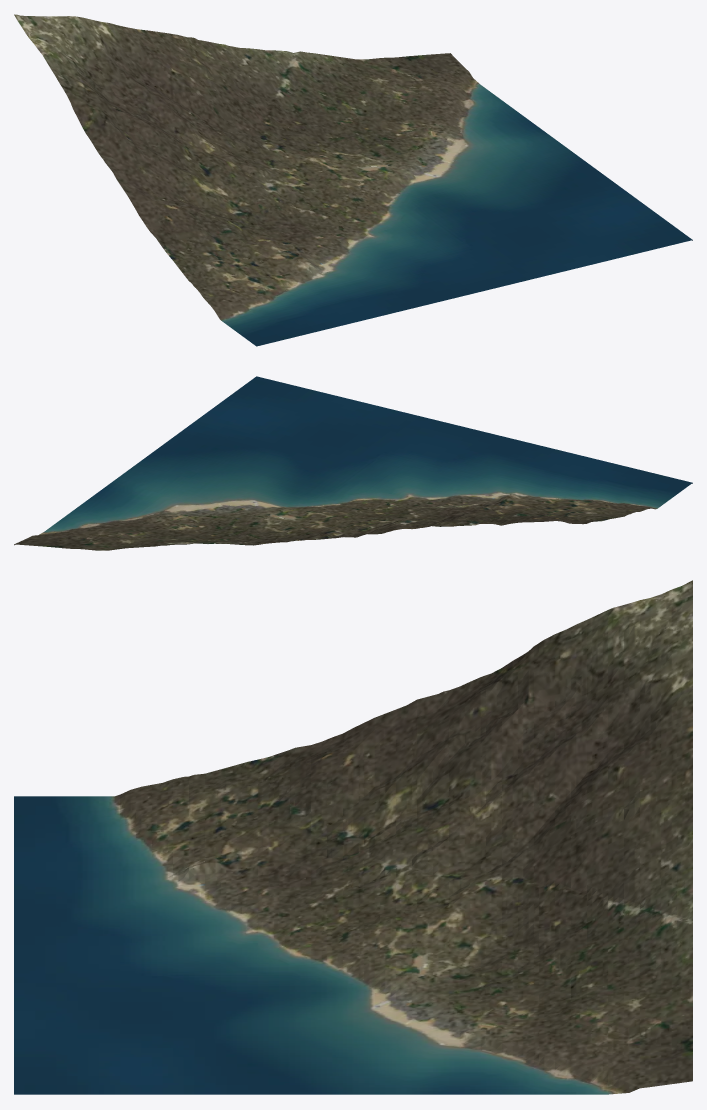
3 renders of one model, top to bottom at view 1: azimuth 30°, elevation 25°; view 2: azimuth 150°, elevation 25°; view 3: azimuth 270°, elevation 25°, orthographic. The views are drawn at different scales.
Size of the model in its own units: 500 by 170 by 481.
Materials: 1 (1 with a texture image).
